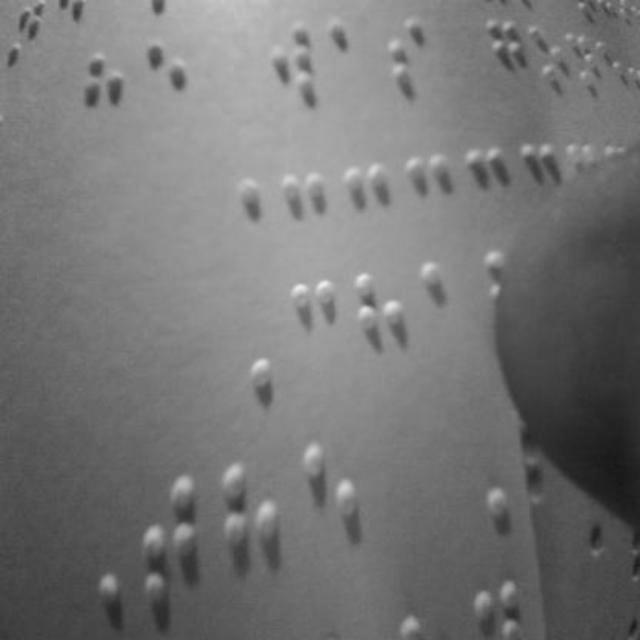braiile: (138, 466, 212, 622), (224, 457, 300, 607), (300, 438, 372, 586), (418, 252, 478, 378), (289, 272, 353, 390), (355, 262, 413, 383), (75, 48, 135, 160), (260, 18, 320, 128), (140, 32, 193, 144), (376, 11, 432, 115), (320, 15, 368, 121)
